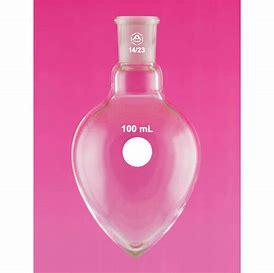Pear shaped flask: (53, 8, 195, 260)
